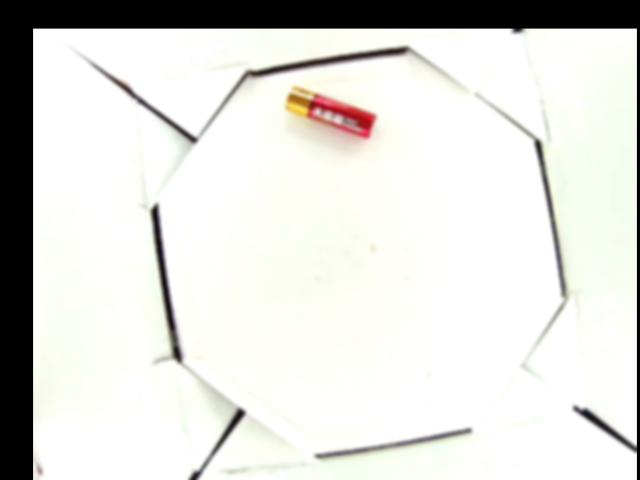Battery: (284, 85, 377, 138)
